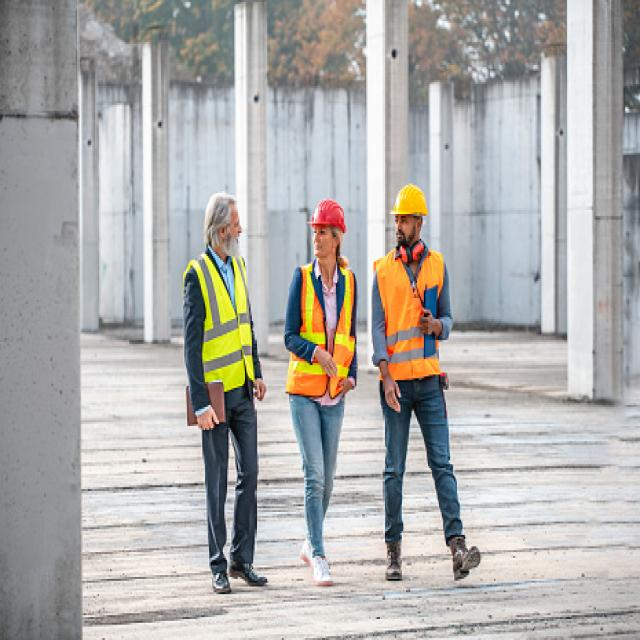boots: (379, 528, 483, 590)
helmet: (388, 180, 430, 253), (308, 198, 348, 262)
vest: (179, 248, 260, 405), (368, 242, 450, 386), (283, 253, 358, 404)
